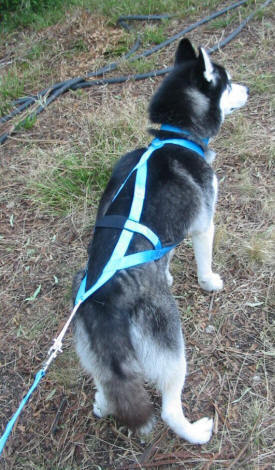dog: (68, 36, 250, 444)
